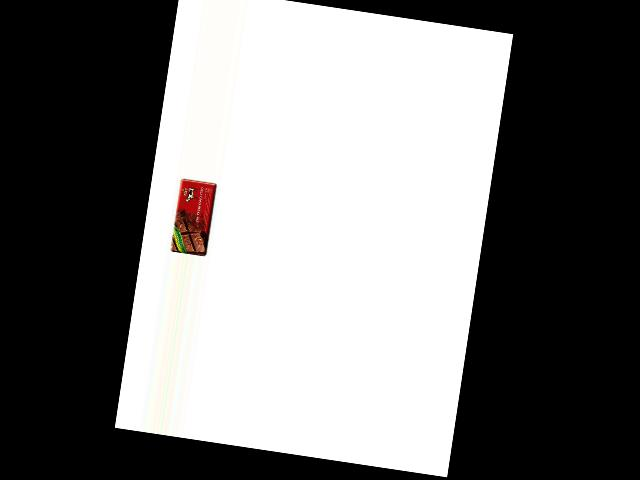chocolate: (169, 176, 218, 257)
